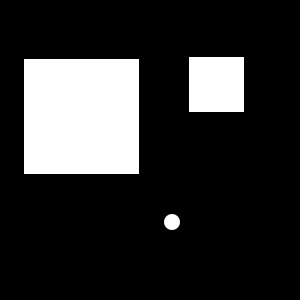circle: (24, 59, 139, 174), (189, 57, 244, 112)
rectangle: (164, 214, 180, 230)
